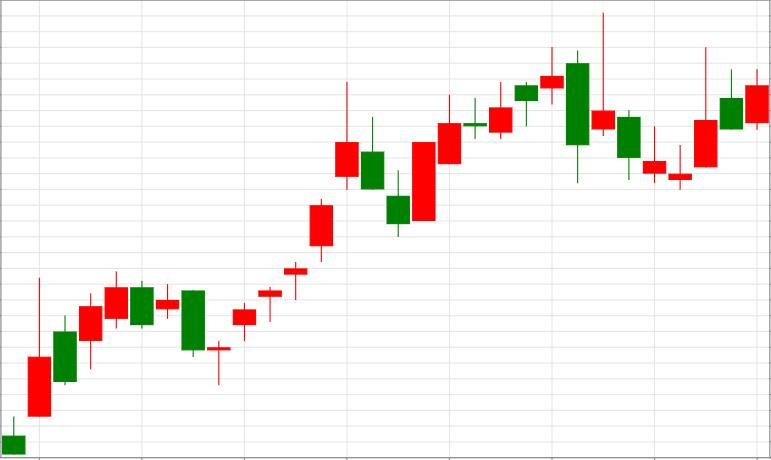shooting_star_fall: (208, 82, 359, 385)
